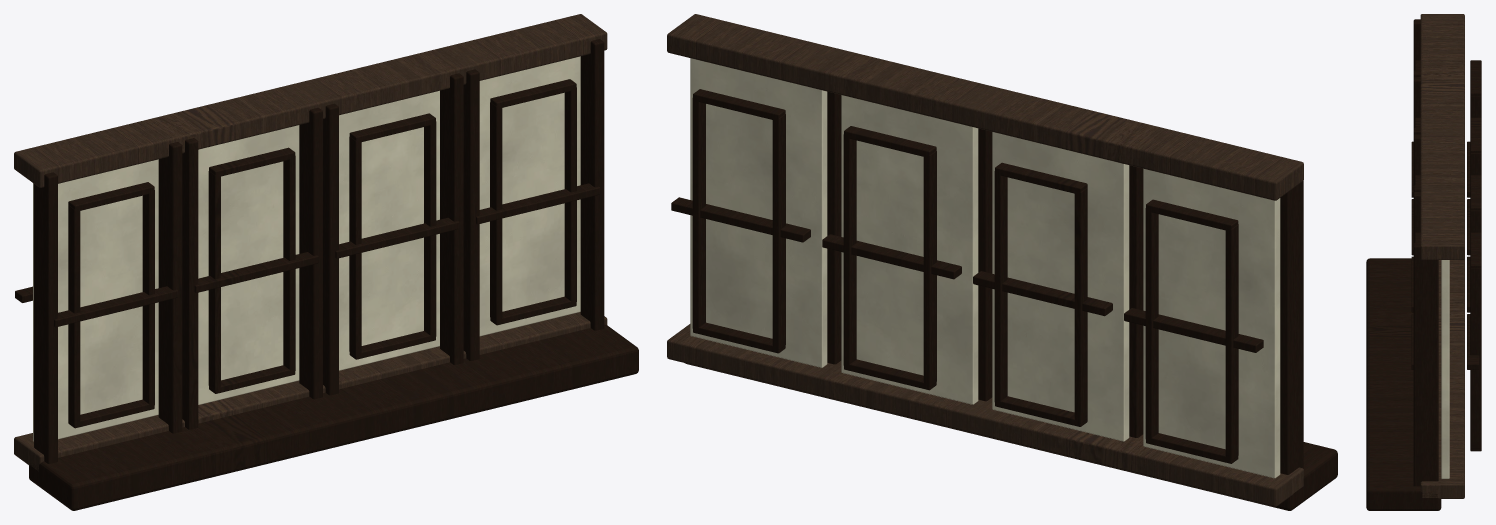
Rendered from inspect_window.glb.
3 renders of one model, left to right at view 1: azimuth 30°, elevation 25°; view 2: azimuth 150°, elevation 25°; view 3: azimuth 270°, elevation 25°, orthographic. The views are drawn at different scales.
Visible parts, largest first — view 1: bedroom_window_site_dark_weathered_timber, bedroom_window_window_paper, bedroom_window_photo_bed_brown_timber; view 2: bedroom_window_window_paper, bedroom_window_site_dark_weathered_timber, bedroom_window_photo_bed_brown_timber; view 3: bedroom_window_site_dark_weathered_timber, bedroom_window_photo_bed_brown_timber, bedroom_window_window_paper.
Boxes of the visible parts, <box> form: bedroom_window_site_dark_weathered_timber: <box>15,39,638,510</box>; bedroom_window_window_paper: <box>33,56,580,441</box>; bedroom_window_photo_bed_brown_timber: <box>14,14,607,471</box>; bedroom_window_window_paper: <box>690,58,1280,478</box>; bedroom_window_site_dark_weathered_timber: <box>671,89,1337,510</box>; bedroom_window_photo_bed_brown_timber: <box>667,14,1303,506</box>; bedroom_window_site_dark_weathered_timber: <box>1366,19,1481,510</box>; bedroom_window_photo_bed_brown_timber: <box>1420,14,1464,498</box>; bedroom_window_window_paper: <box>1441,260,1449,478</box>.
Size of the model in its own units: 1.98 by 1.06 by 0.415.
3 materials, 3 textured.
